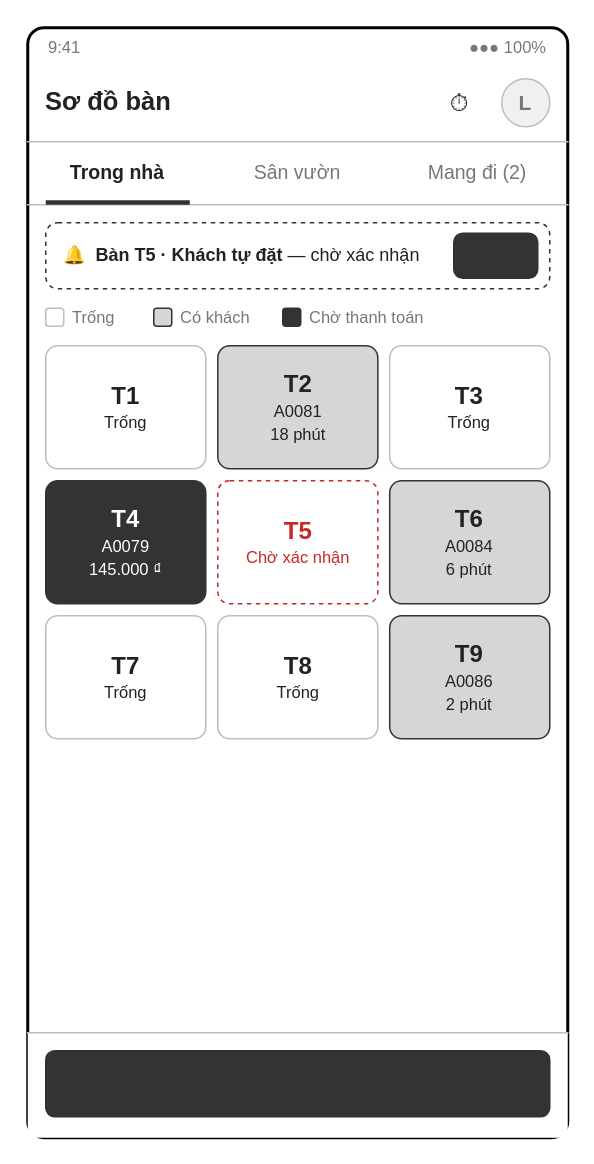
Image size: 594x1164. Some labels were removed from this diagram. The shapes that lost their labels are listed below. From the top down, each one's centre as x and y in pixels, then its label:
the point at 495,255: Xem
the point at 297,1083: 🥤 Đơn mang đi
